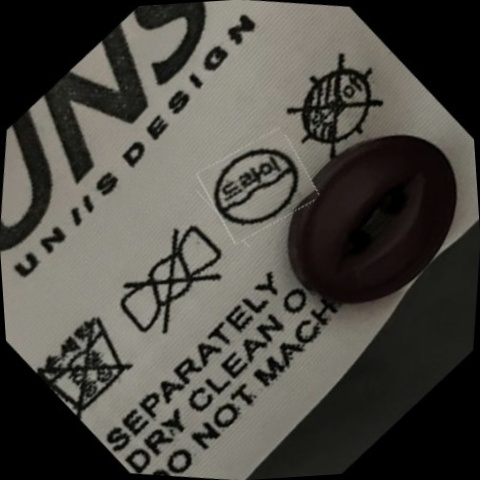DN_dry: (281, 51, 390, 162)
DN_wring: (110, 222, 233, 344)
dry_clean: (208, 136, 307, 238)
hand_wash: (36, 304, 140, 416)
